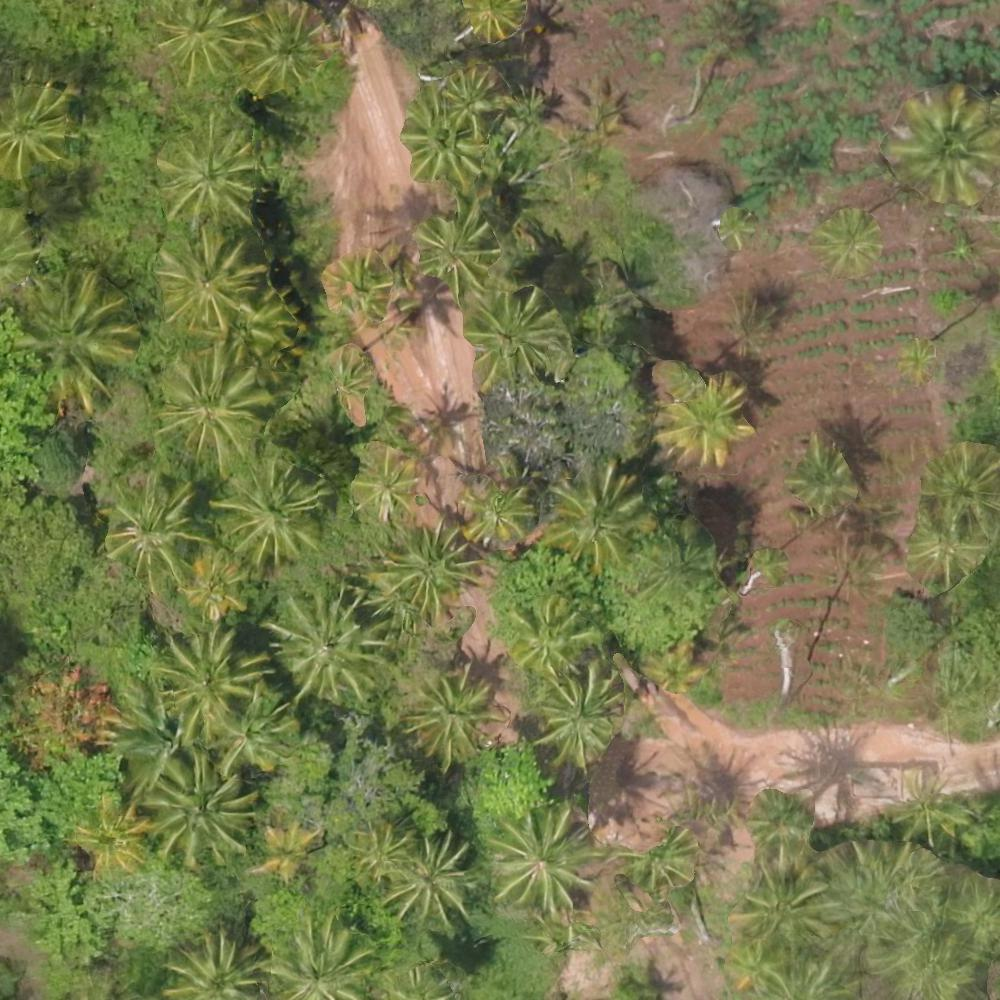Palm: (17, 272, 137, 416), (271, 591, 388, 698), (157, 346, 264, 460), (109, 476, 216, 590), (891, 88, 994, 206), (157, 628, 266, 735), (492, 805, 594, 910), (214, 459, 320, 560), (152, 758, 249, 865), (551, 463, 649, 567), (159, 124, 260, 224), (153, 230, 255, 329), (381, 831, 477, 933), (266, 914, 369, 1000), (380, 526, 477, 617), (532, 671, 626, 764), (149, 1, 249, 82), (411, 671, 498, 764), (460, 294, 555, 378), (663, 374, 750, 465), (740, 861, 834, 944), (243, 8, 334, 92), (920, 448, 998, 541), (1, 83, 76, 177), (164, 929, 259, 1000), (403, 94, 483, 178), (212, 695, 297, 774), (509, 596, 596, 672), (418, 210, 498, 290), (76, 799, 148, 878), (348, 447, 418, 521), (326, 255, 392, 321), (816, 213, 884, 274), (465, 478, 530, 541), (352, 818, 415, 880), (791, 447, 854, 509), (190, 560, 253, 618), (253, 824, 315, 878)
